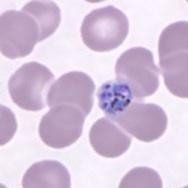Infected: (96, 81, 133, 113)
Uninfected: (114, 46, 160, 98), (8, 62, 55, 112), (80, 5, 129, 52), (47, 71, 94, 118), (114, 103, 168, 142), (38, 106, 84, 149), (0, 9, 38, 57), (89, 118, 132, 158), (20, 0, 61, 41), (158, 19, 188, 67), (160, 50, 188, 99), (23, 160, 70, 188)
